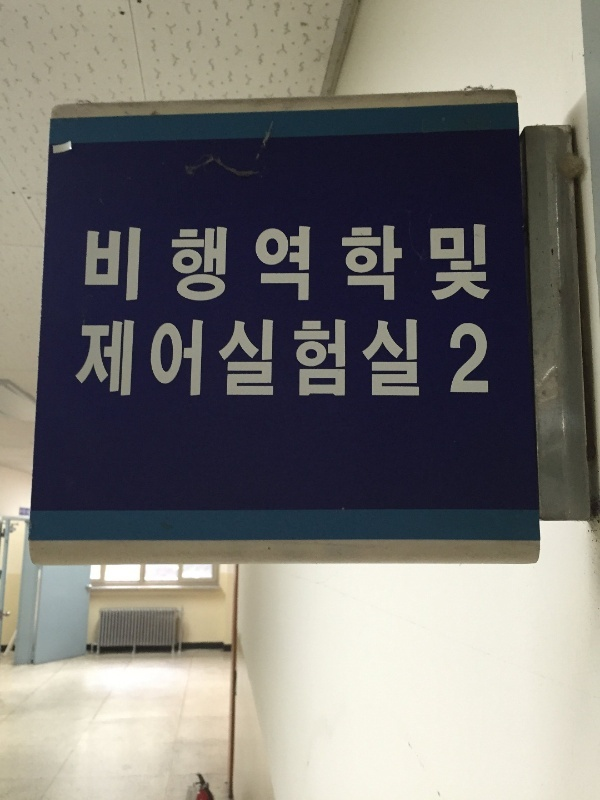text: (81, 316, 96, 409), (97, 316, 112, 409), (113, 316, 128, 409), (129, 316, 144, 409), (145, 316, 160, 409), (161, 316, 176, 409), (177, 316, 192, 409), (193, 316, 208, 409), (209, 316, 224, 409), (225, 316, 240, 409), (241, 316, 256, 409), (257, 316, 272, 409), (273, 316, 288, 409), (289, 316, 304, 409), (305, 316, 320, 409), (321, 316, 336, 409), (337, 316, 352, 409), (353, 316, 368, 409), (369, 316, 384, 409), (385, 316, 400, 409), (401, 316, 416, 409), (417, 316, 432, 409), (433, 316, 448, 409), (449, 316, 464, 409), (465, 316, 480, 409), (97, 218, 112, 309), (113, 218, 128, 309), (129, 218, 144, 309), (145, 218, 160, 309), (161, 218, 176, 309), (177, 218, 192, 309), (193, 218, 208, 309), (209, 218, 224, 309), (225, 218, 240, 309), (241, 218, 256, 309), (257, 218, 272, 309), (273, 218, 288, 309), (289, 218, 304, 309), (305, 218, 320, 309), (321, 218, 336, 309), (337, 218, 352, 309), (353, 218, 368, 309), (369, 218, 384, 309), (385, 218, 400, 309), (401, 218, 416, 309), (417, 218, 432, 309), (433, 218, 448, 309), (449, 218, 464, 309), (465, 218, 480, 309), (481, 218, 494, 309), (481, 316, 492, 409), (86, 218, 96, 309), (78, 316, 80, 409)
